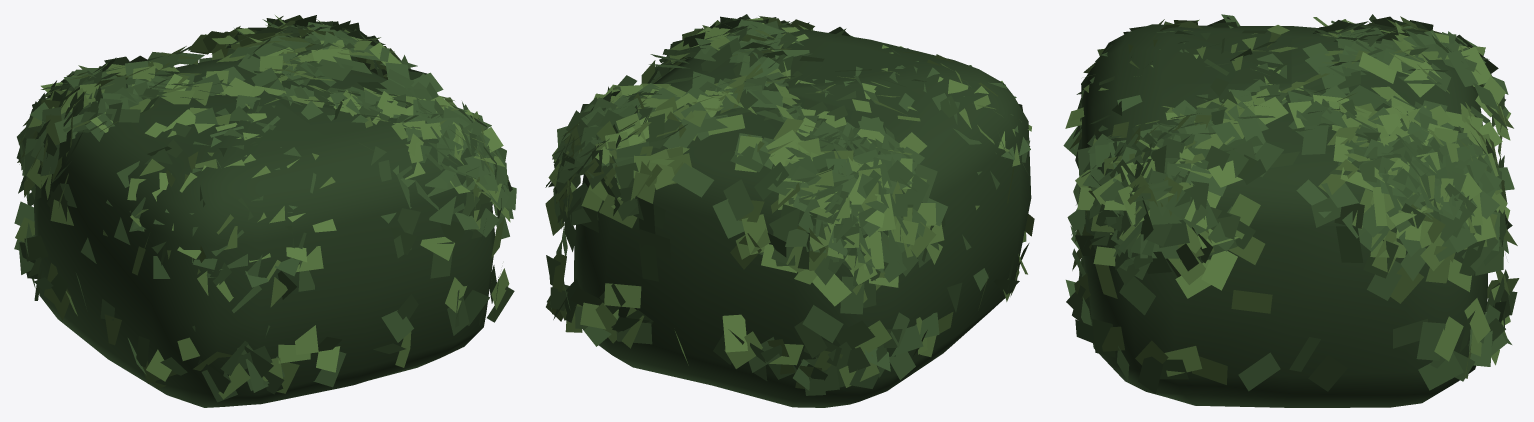
Rendered from hedge.glb.
3 views of the same model, side by side, from view 1: azimuth 30°, elevation 25°; view 2: azimuth 150°, elevation 25°; view 3: azimuth 270°, elevation 25° (orthographic). The views are drawn at different scales.
Visible parts, largest first — view 1: hedge-hedge-dark, hedge-hedge, hedge-hedge-light; view 2: hedge-hedge-dark, hedge-hedge, hedge-hedge-light; view 3: hedge-hedge-dark, hedge-hedge, hedge-hedge-light.
Part boxes in pixels (x1=…): hedge-hedge-dark: x1=33, y1=49, x2=494, y2=407; hedge-hedge: x1=14, y1=15, x2=516, y2=402; hedge-hedge-light: x1=15, y1=15, x2=510, y2=399; hedge-hedge-dark: x1=574, y1=27, x2=1031, y2=407; hedge-hedge: x1=545, y1=14, x2=1030, y2=395; hedge-hedge-light: x1=545, y1=16, x2=1034, y2=388; hedge-hedge-dark: x1=1081, y1=24, x2=1487, y2=407; hedge-hedge: x1=1063, y1=14, x2=1517, y2=393; hedge-hedge-light: x1=1065, y1=16, x2=1519, y2=384.
Bounding box in the file's own units: 2.06 × 1.4 × 2.09.
